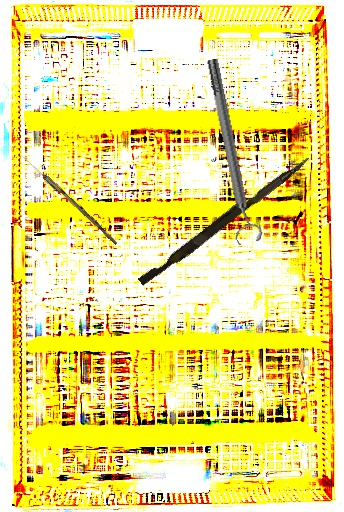Fixation Ring: (198, 56, 265, 246)
Pusher: (137, 150, 312, 290)
Surgical Spoon: (16, 150, 120, 246)
